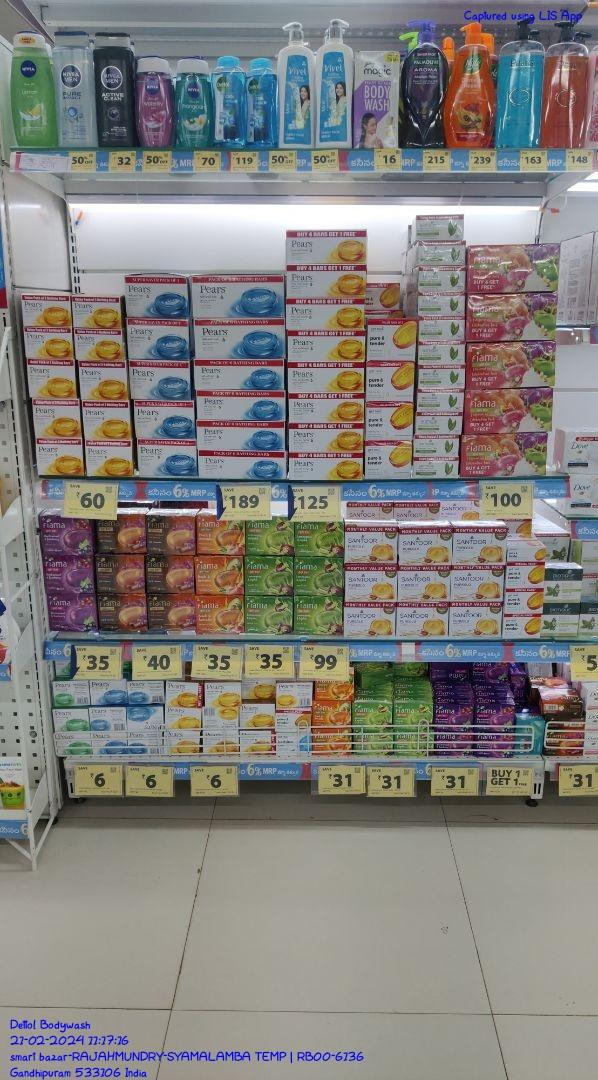Dettol_Bodywash_Cool: (211, 55, 246, 149), (246, 55, 278, 147)
Nivea_Shower_Gel_Frangipani_and_Oil_250ML: (172, 55, 211, 147)
Nivea_Shower_Gel_Lemon_and_Oil_250ML: (9, 30, 54, 145)
Nivea_Shower_Gel_Waterlily_and_Oil_250ML: (134, 55, 171, 147)
